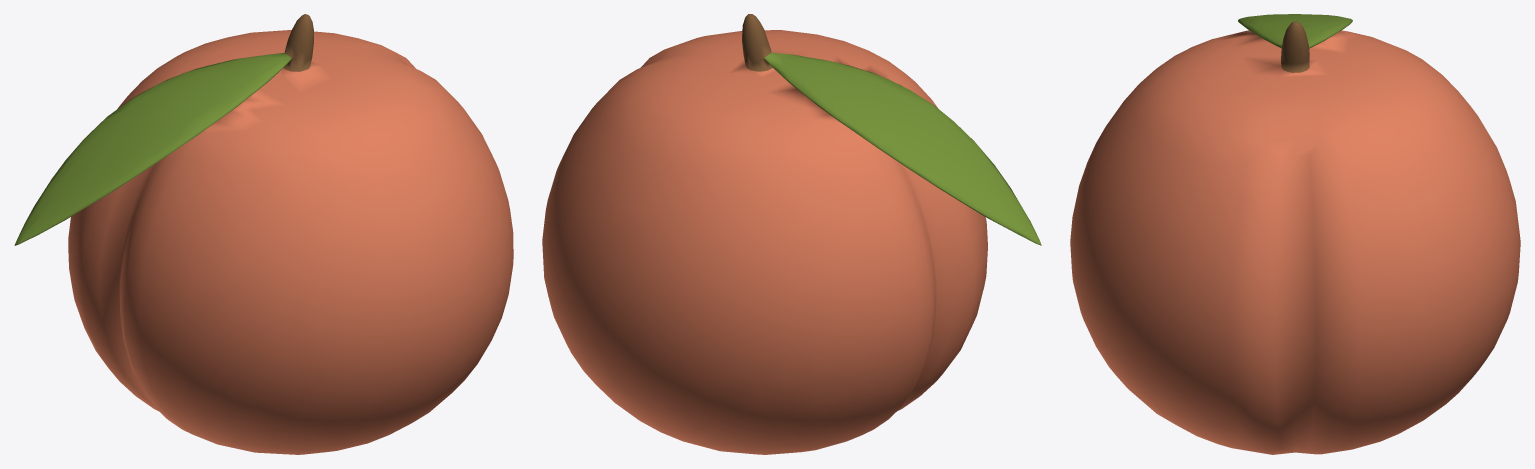
The picture shows the model from 3 angles, left to right: view 1: azimuth 30°, elevation 25°; view 2: azimuth 150°, elevation 25°; view 3: azimuth 270°, elevation 25°; orthographic projection.
Visible parts, largest first — view 1: NEW301_Peach_LOD2; view 2: NEW301_Peach_LOD2; view 3: NEW301_Peach_LOD2.
Boxes of the visible parts, x1,y1,x2,y2 form: NEW301_Peach_LOD2: (14, 14, 513, 454); NEW301_Peach_LOD2: (542, 14, 1041, 454); NEW301_Peach_LOD2: (1070, 14, 1520, 454).
Size of the model in its own units: 9.41 by 7.82 by 7.85.
